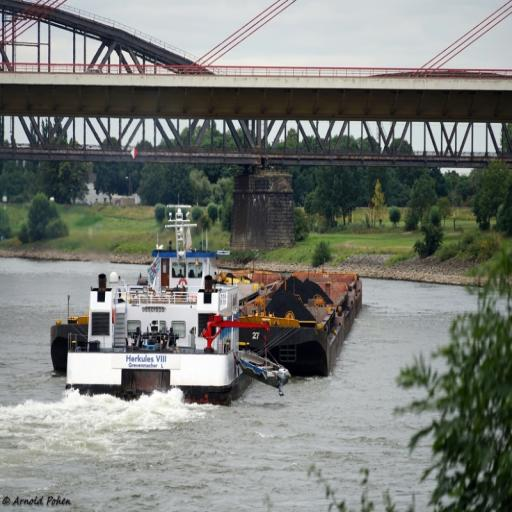tugboat: (60, 200, 257, 417)
